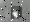person: (12, 7, 20, 20), (21, 8, 26, 18)
